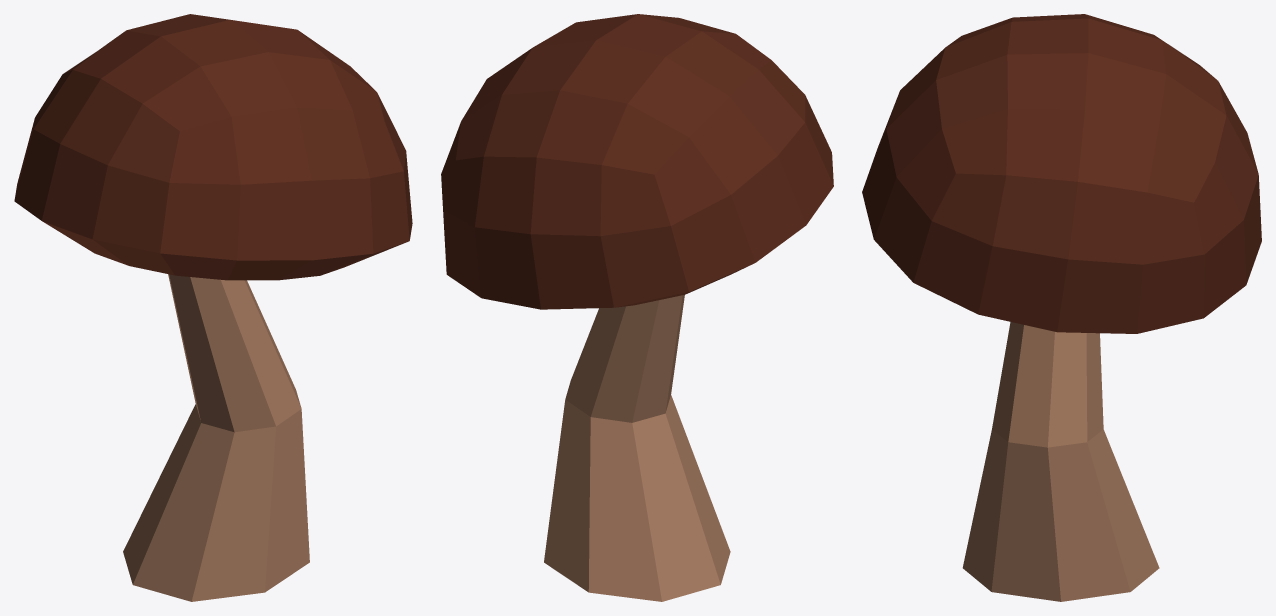
File: mesh_mushroom_03_brown.fbx
3 views of the same model, side by side, from view 1: azimuth 30°, elevation 25°; view 2: azimuth 150°, elevation 25°; view 3: azimuth 270°, elevation 25° (orthographic).
Visible parts, largest first — view 1: mesh_mushroom_03_brown_LOD0; view 2: mesh_mushroom_03_brown_LOD0; view 3: mesh_mushroom_03_brown_LOD0.
Boxes of the visible parts, x1,y1,x2,y2 form: mesh_mushroom_03_brown_LOD0: (14, 14, 412, 601); mesh_mushroom_03_brown_LOD0: (441, 14, 833, 601); mesh_mushroom_03_brown_LOD0: (862, 14, 1261, 601).
Size of what is drawn, in the model's own units: 0.3075 by 0.4577 by 0.3092.
